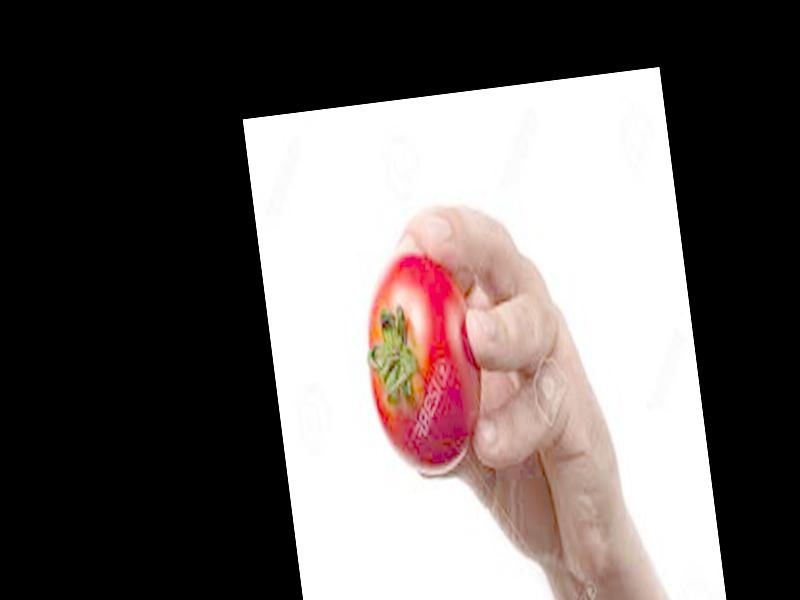Tomato: (354, 246, 490, 478)
